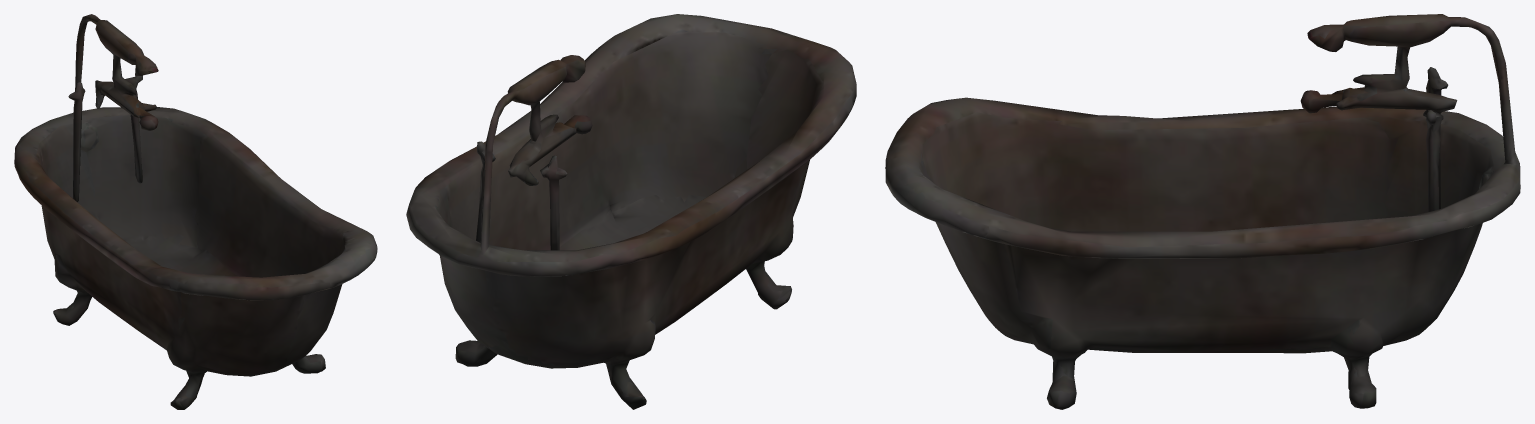
The model's file is plain-iron-bathtub-v001.glb.
The picture shows the model from 3 angles, left to right: view 1: azimuth 30°, elevation 25°; view 2: azimuth 150°, elevation 25°; view 3: azimuth 270°, elevation 25°; orthographic projection. The views are drawn at different scales.
Visible parts, largest first — view 1: plain-iron-bathtub; view 2: plain-iron-bathtub; view 3: plain-iron-bathtub.
Part boxes in pixels (bbox=[...]): plain-iron-bathtub: bbox=[14, 14, 377, 409]; plain-iron-bathtub: bbox=[406, 14, 856, 409]; plain-iron-bathtub: bbox=[885, 14, 1520, 409].
Size of the model in its own units: 0.5538 by 0.6889 by 1.12.
1 material, 1 textured.
